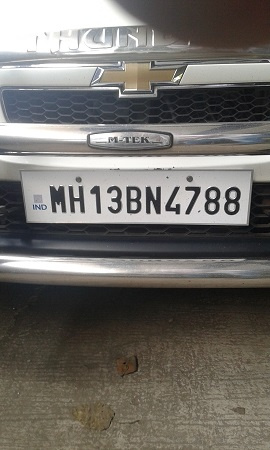licenseplate: (18, 166, 252, 231)
